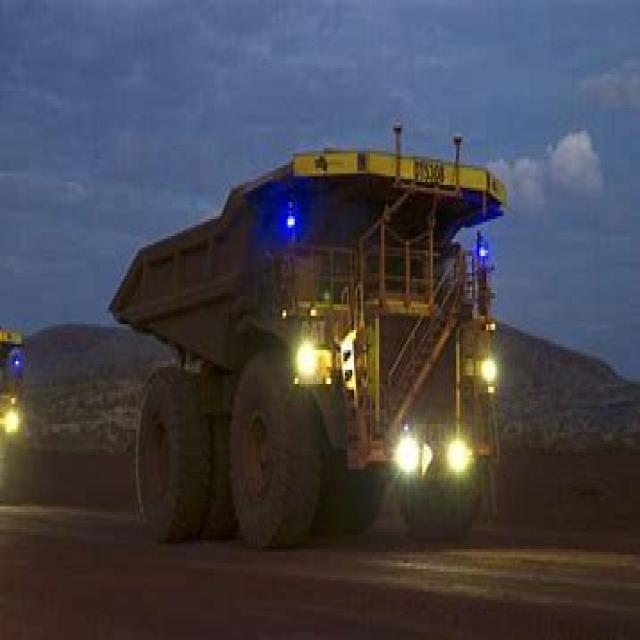dump_truck: (94, 131, 500, 549)
